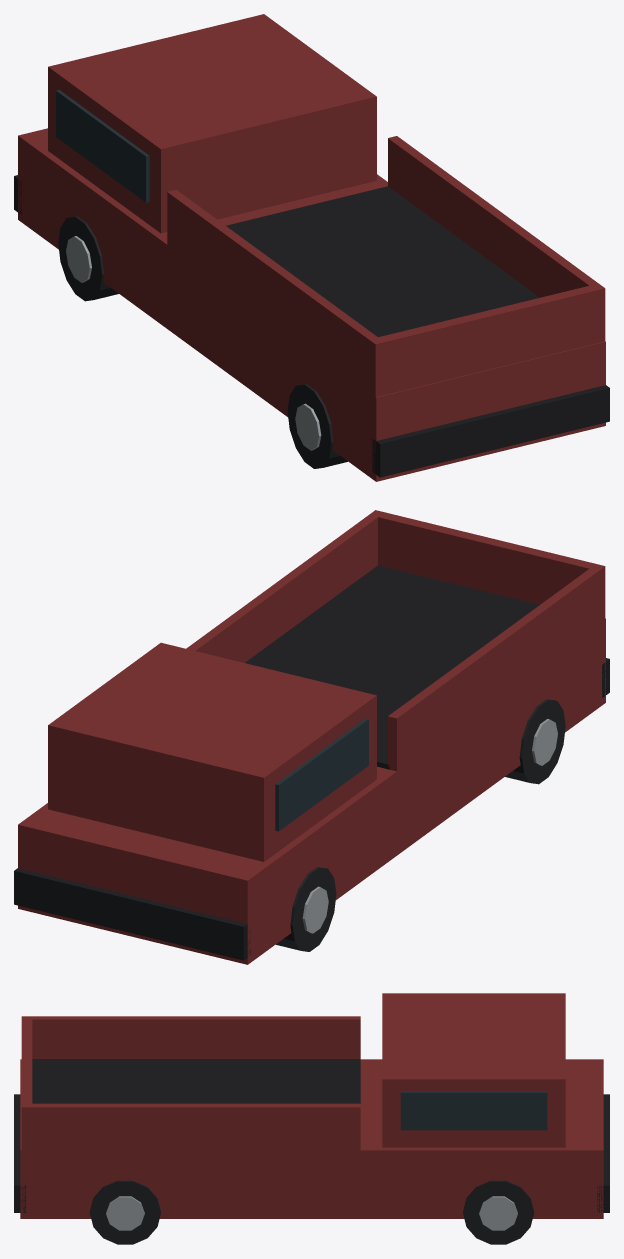
The model's file is pickup.glb.
The picture shows the model from 3 angles, top to bottom: view 1: azimuth 30°, elevation 25°; view 2: azimuth 150°, elevation 25°; view 3: azimuth 270°, elevation 25°; orthographic projection. The views are drawn at different scales.
Visible parts, largest first — view 1: pickup; view 2: pickup; view 3: pickup.
Boxes of the visible parts, x1,y1,x2,y2 form: pickup: (14,14,609,481); pickup: (14,510,609,964); pickup: (14,993,609,1244).
Bounding box in the file's own units: 2.08 × 1.65 × 5.52.
